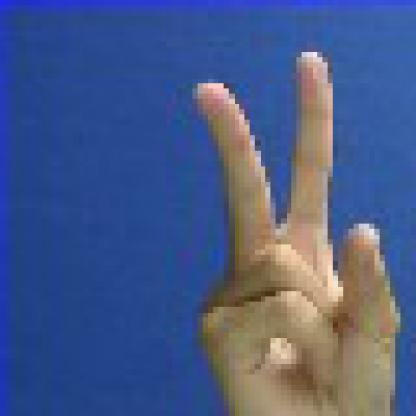two: (172, 41, 410, 410)
